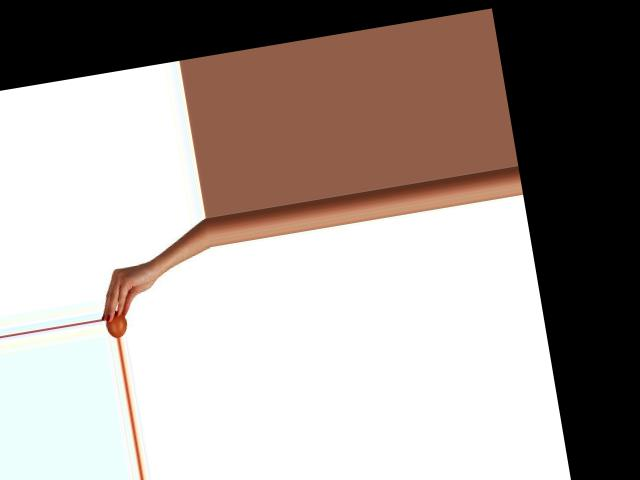egg: (104, 310, 128, 338)
